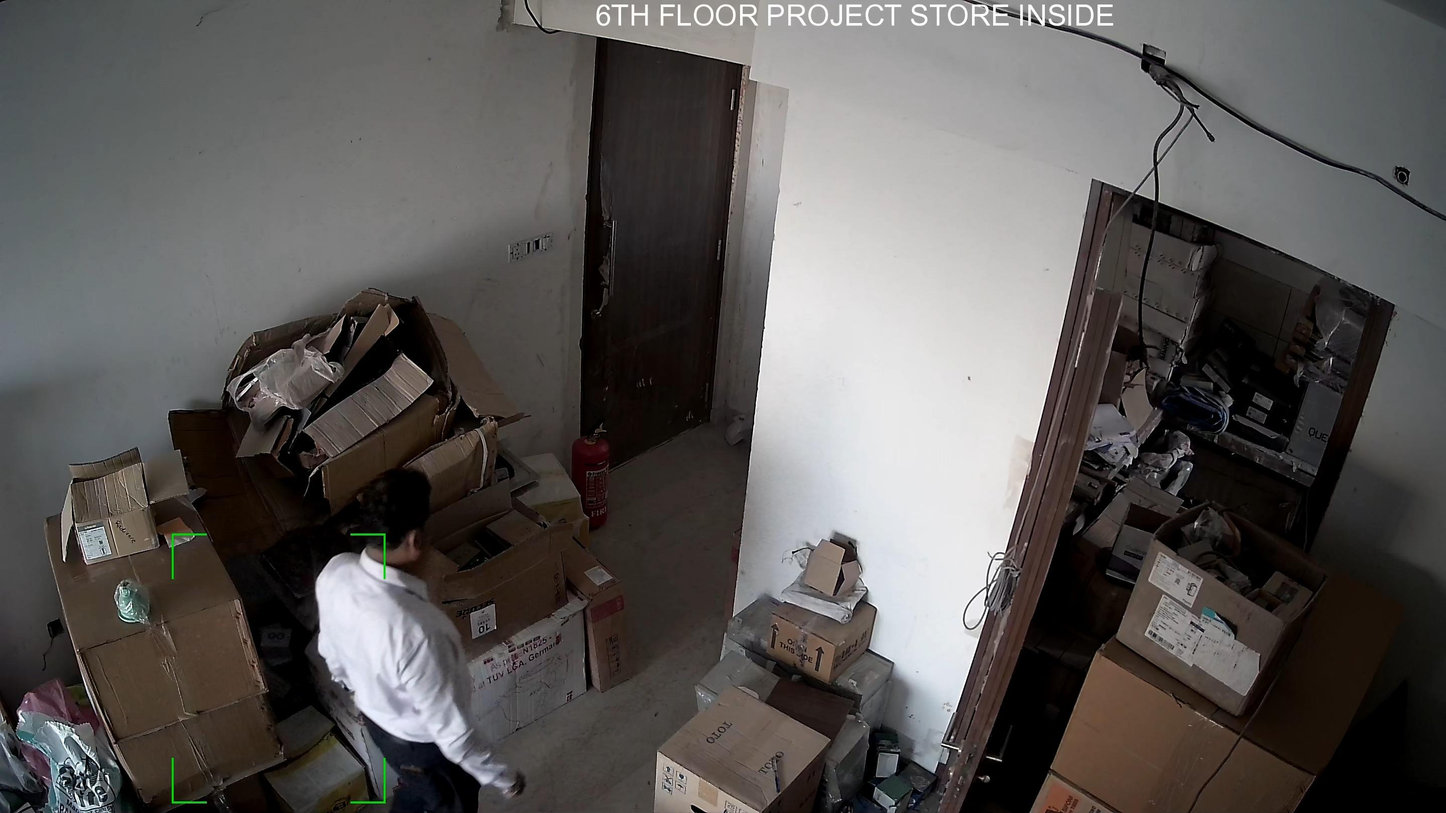Door-Close: (567, 31, 741, 490)
